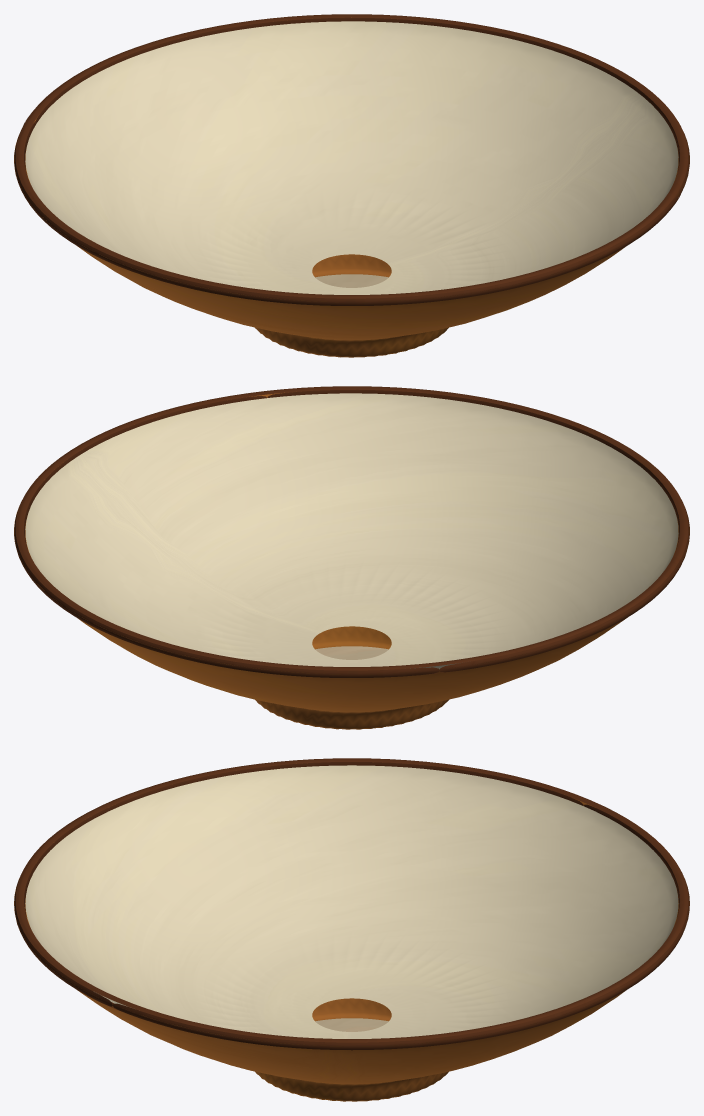
The model's file is PROP_WarmWood_Bowl_Glaze.glb.
The picture shows the model from 3 angles, top to bottom: view 1: azimuth 30°, elevation 25°; view 2: azimuth 150°, elevation 25°; view 3: azimuth 270°, elevation 25°; orthographic projection.
Parts seen in each view (by area): view 1: PROP_WarmWood_Bowl_Glaze; view 2: PROP_WarmWood_Bowl_Glaze; view 3: PROP_WarmWood_Bowl_Glaze.
Part boxes in pixels (x1,y1,x2,y2): PROP_WarmWood_Bowl_Glaze: [14, 14, 689, 357]; PROP_WarmWood_Bowl_Glaze: [14, 386, 689, 729]; PROP_WarmWood_Bowl_Glaze: [14, 758, 689, 1101].
Size of the model in its own units: 0.766 by 0.2 by 0.766.
Materials: 4 (4 with a texture image).
